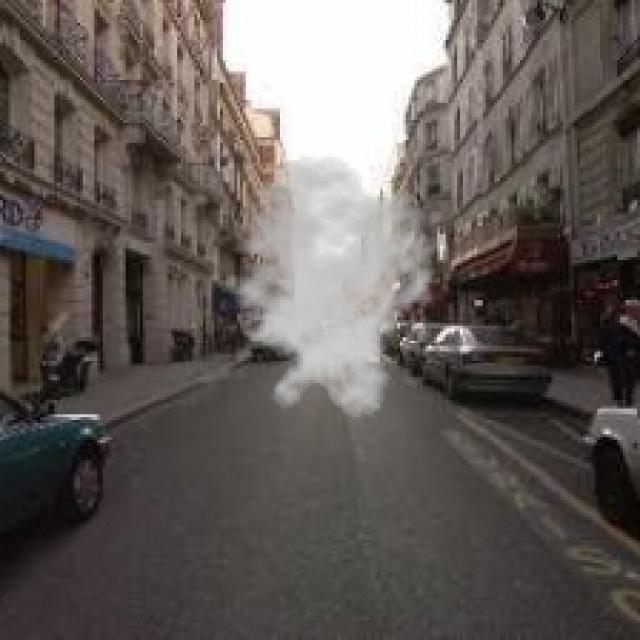smoke: (208, 154, 448, 420)
